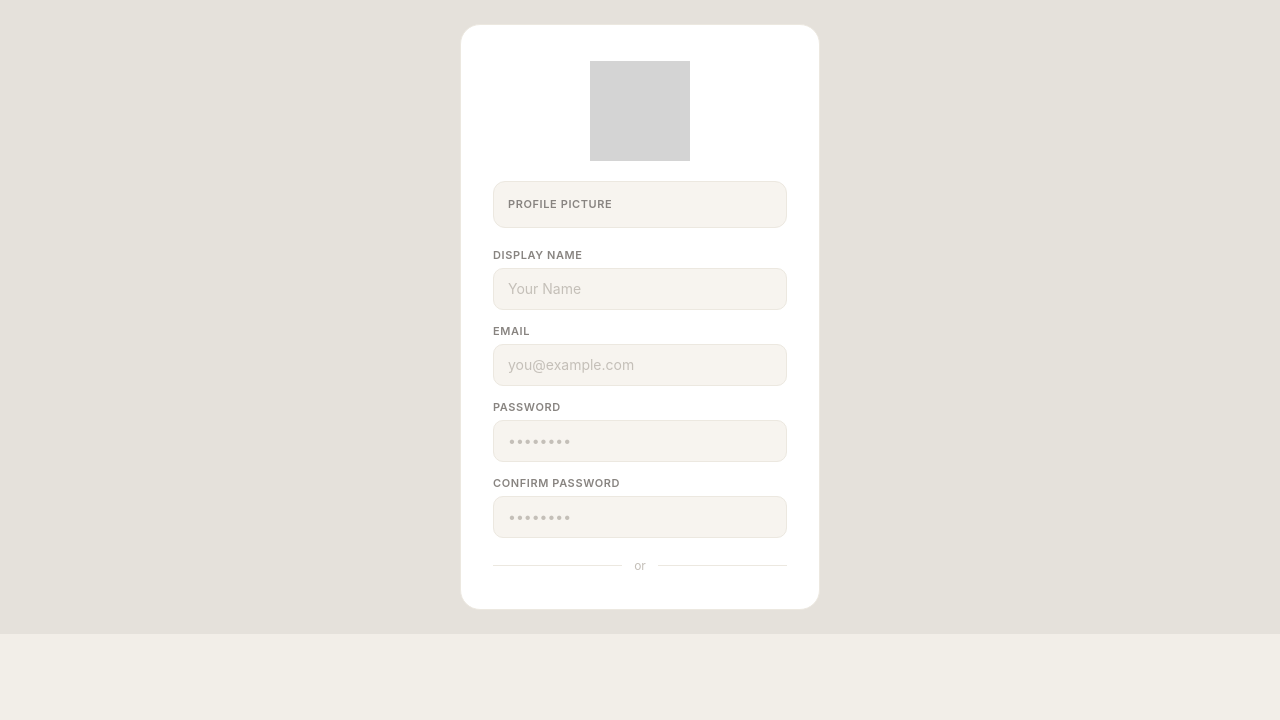
Test: RegisterPage › shows email confirmation card on successful registration
The width and height of the screenshot is (1280, 720).
Step 1. Type "John Doe" into the field labelled "Display name" → (640, 288), box [493,268,787,310]
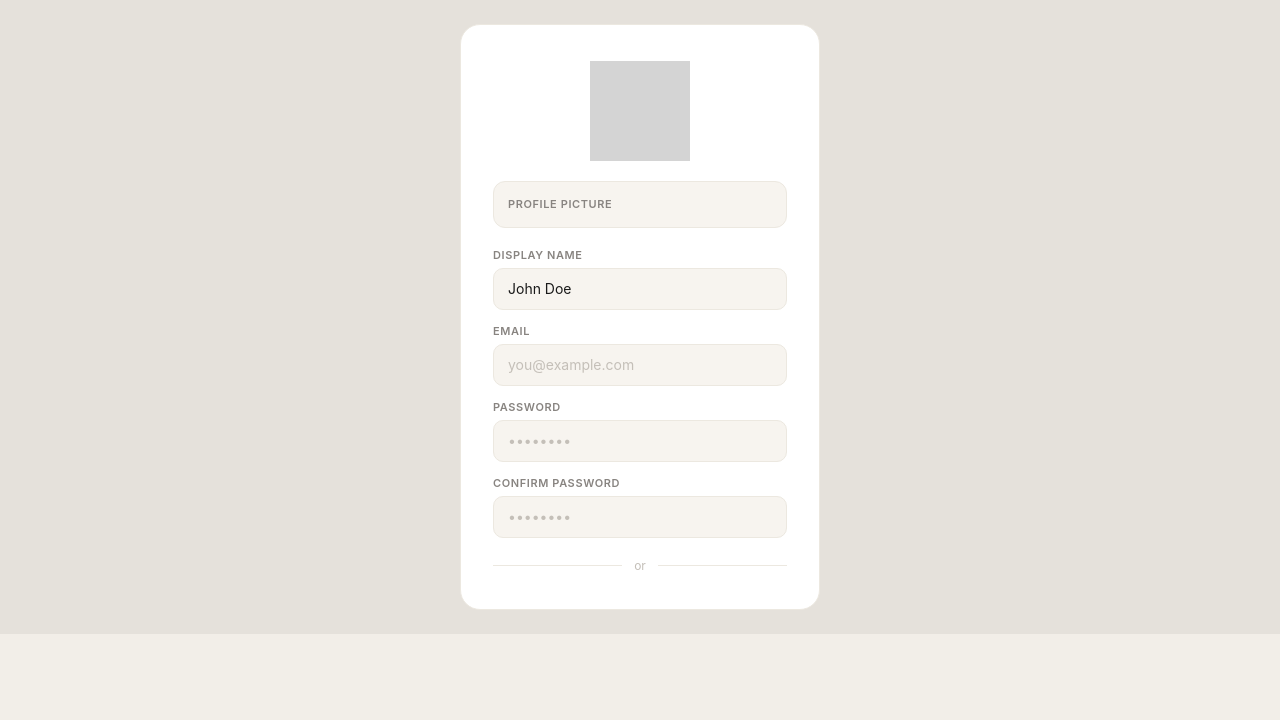
Step 2. Type "john@test.com" into the field labelled "Email" → (640, 364), box [493,344,787,386]
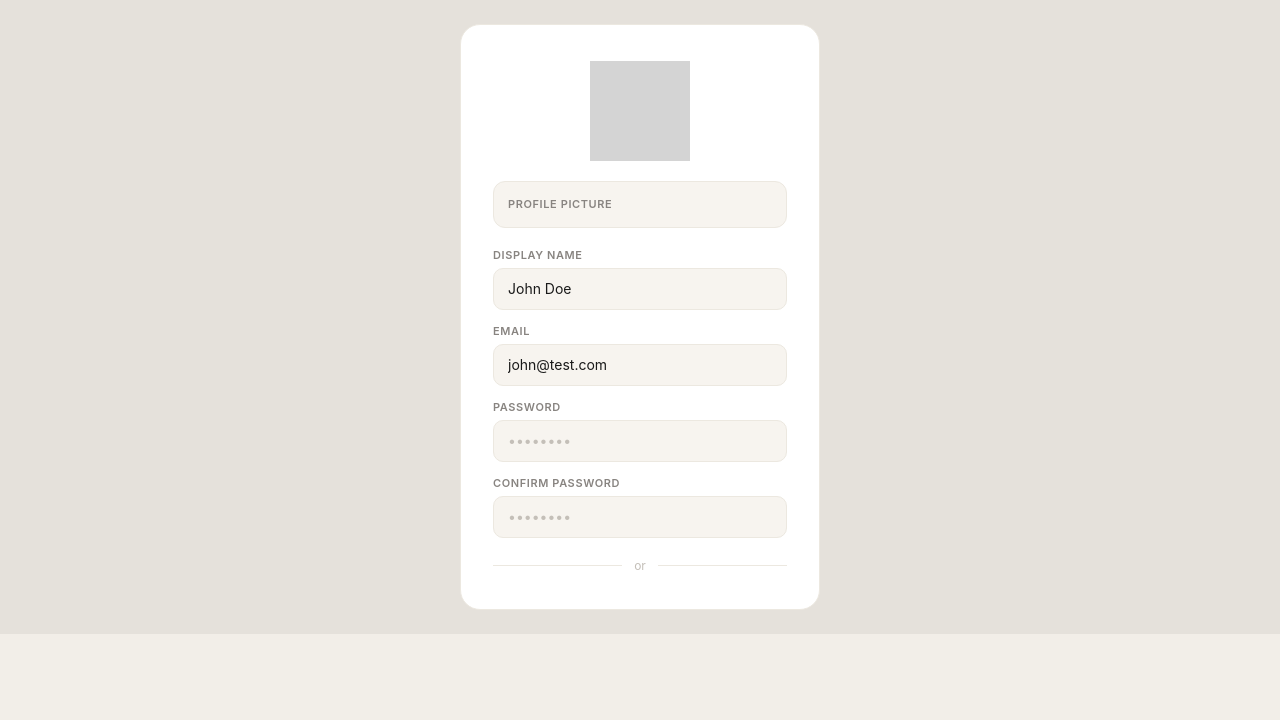
Step 3. Type "secret123" into the password field labelled "Password" → (640, 440), box [493,420,787,462]
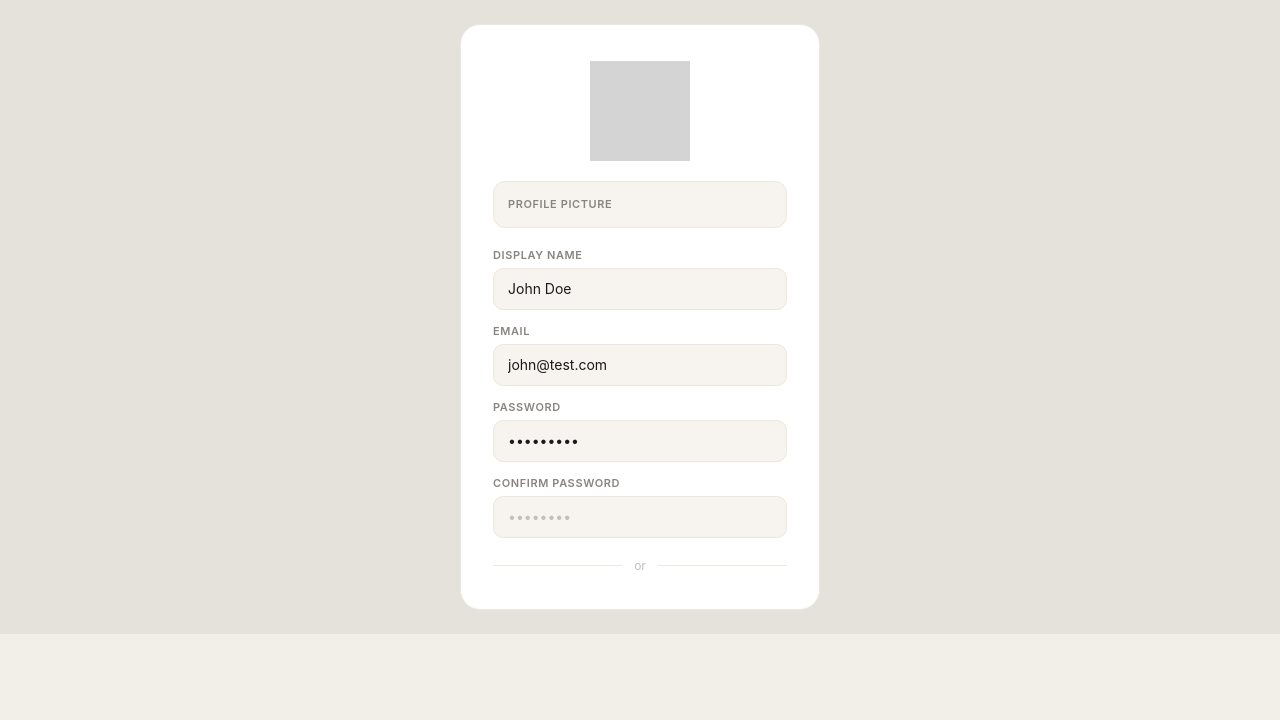
Step 4. Type "secret123" into the password field labelled "Confirm password" → (640, 516), box [493,496,787,538]
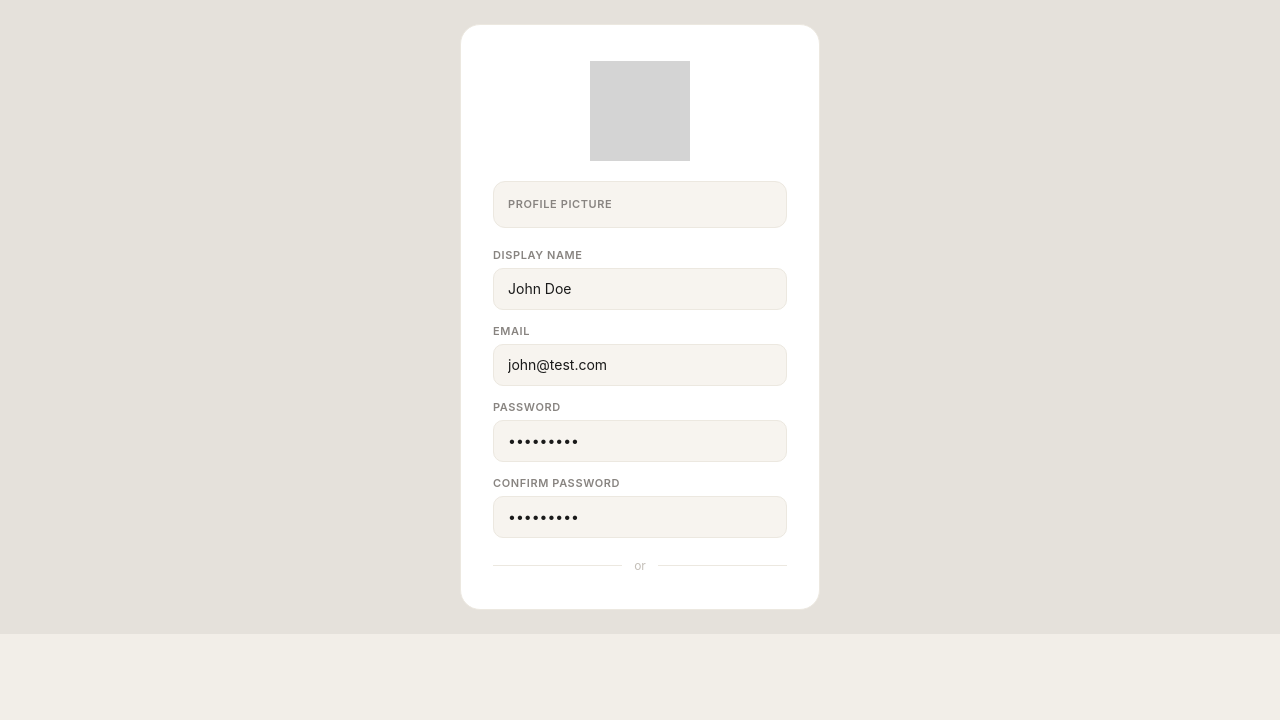
Step 5. Submit the form, box [493,248,787,538]
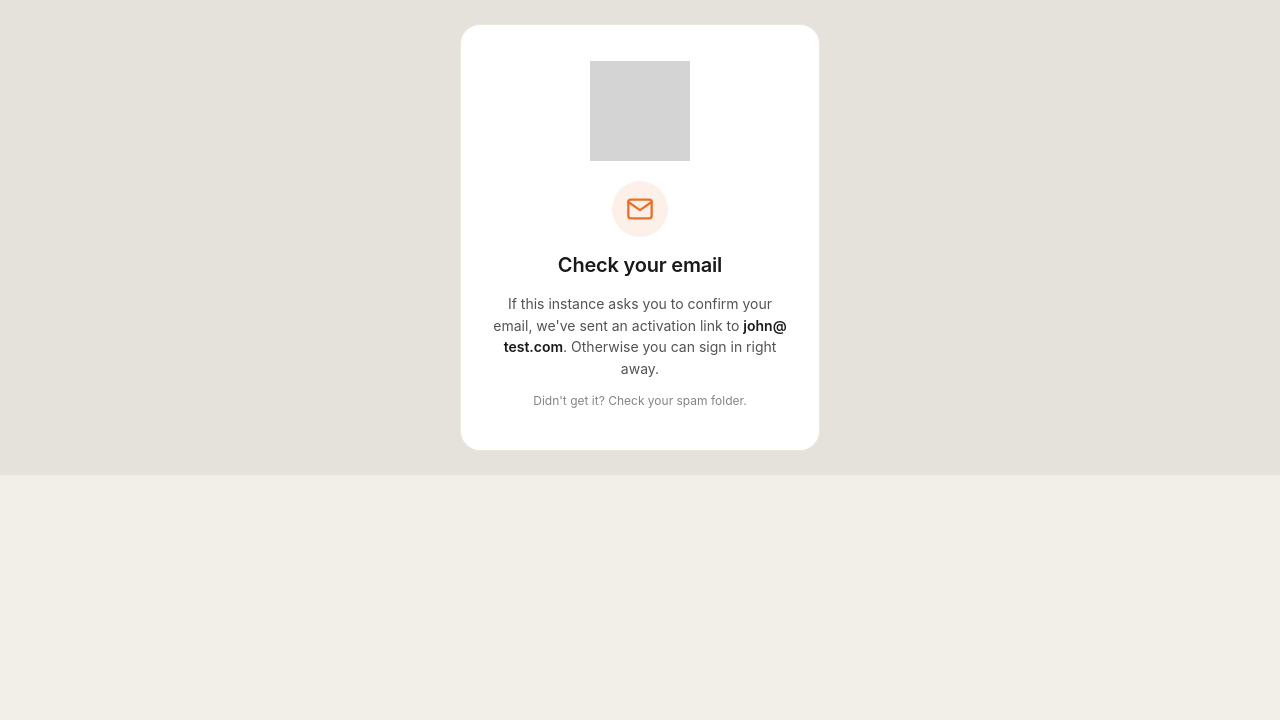
Expected: the heading "Check your email" is shown, [558,253,722,277]
Expected: the text "john@test.com" is shown, [504,317,787,355]
Expected: the label labelled "Display name" is gone
